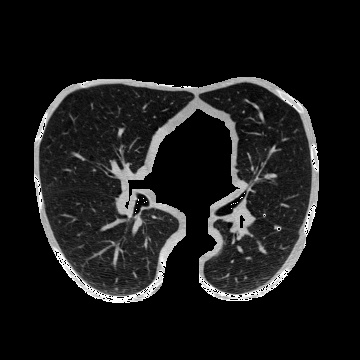PN: (275, 225, 281, 231)
